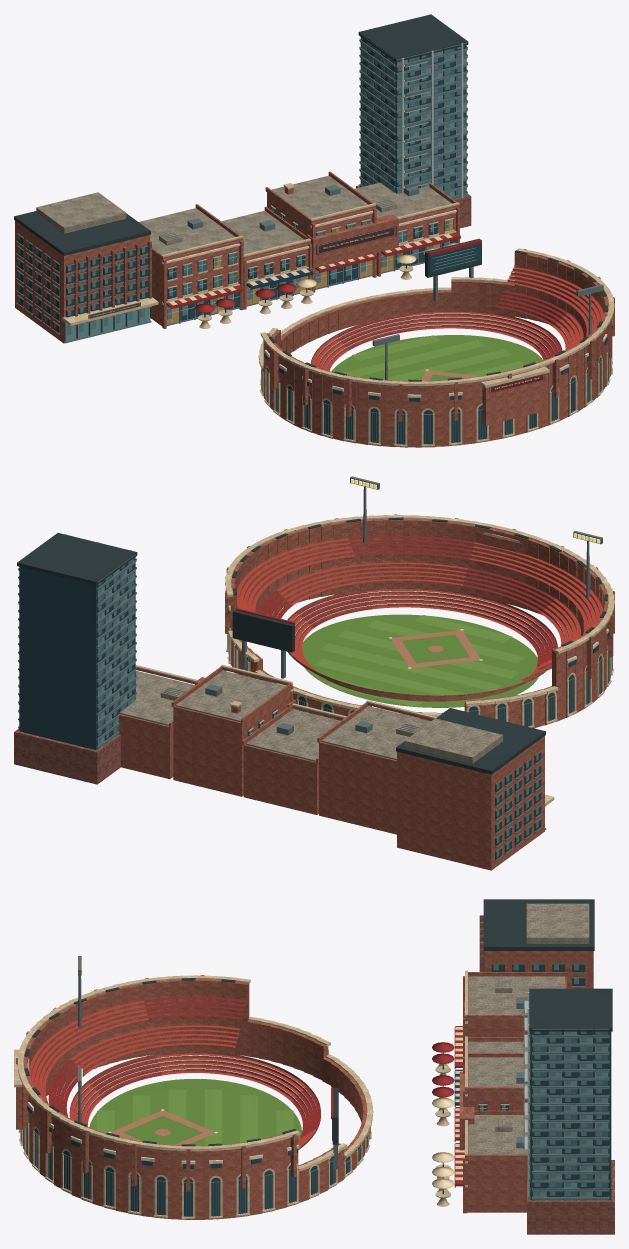
File: ballpark.glb
3 renders of one model, top to bottom at view 1: azimuth 30°, elevation 25°; view 2: azimuth 150°, elevation 25°; view 3: azimuth 270°, elevation 25°, orthographic. The views are drawn at different scales.
Visible parts, largest first — view 1: Busch Stadium, plaza and One Cardinal Way · Arena brick, Busch Stadium, plaza and One Cardinal Way · Glass dark, Busch Stadium, plaza and One Cardinal Way · Steel, Busch Stadium, plaza and One Cardinal Way · Limestone, Busch Stadium, plaza and One Cardinal Way · Roof, Busch Stadium, plaza and One Cardinal Way · Glass light, Busch Stadium, plaza and One Cardinal Way · Coal, Busch Stadium, plaza and One Cardinal Way · Red, Busch Stadium, plaza and One Cardinal Way · Bright red, Busch Stadium, plaza and One Cardinal Way · Turf, Busch Stadium, plaza and One Cardinal Way · Mown turf, Busch Stadium, plaza and One Cardinal Way · Glass (+8 smaller); view 2: Busch Stadium, plaza and One Cardinal Way · Arena brick, Busch Stadium, plaza and One Cardinal Way · Glass dark, Busch Stadium, plaza and One Cardinal Way · Roof, Busch Stadium, plaza and One Cardinal Way · Turf, Busch Stadium, plaza and One Cardinal Way · Bright red, Busch Stadium, plaza and One Cardinal Way · Coal, Busch Stadium, plaza and One Cardinal Way · Limestone, Busch Stadium, plaza and One Cardinal Way · Mown turf, Busch Stadium, plaza and One Cardinal Way · Steel, Busch Stadium, plaza and One Cardinal Way · Red, Busch Stadium, plaza and One Cardinal Way · Dark brick, Busch Stadium, plaza and One Cardinal Way · Glass light (+3 smaller); view 3: Busch Stadium, plaza and One Cardinal Way · Arena brick, Busch Stadium, plaza and One Cardinal Way · Roof, Busch Stadium, plaza and One Cardinal Way · Steel, Busch Stadium, plaza and One Cardinal Way · Glass dark, Busch Stadium, plaza and One Cardinal Way · Limestone, Busch Stadium, plaza and One Cardinal Way · Coal, Busch Stadium, plaza and One Cardinal Way · Bright red, Busch Stadium, plaza and One Cardinal Way · Turf, Busch Stadium, plaza and One Cardinal Way · Red, Busch Stadium, plaza and One Cardinal Way · Glass light, Busch Stadium, plaza and One Cardinal Way · Dark brick, Busch Stadium, plaza and One Cardinal Way · Mown turf (+5 smaller).
Boxes of the visible parts, left/top/right/bottom form: Busch Stadium, plaza and One Cardinal Way · Arena brick: left=15, top=171, right=614, bottom=447; Busch Stadium, plaza and One Cardinal Way · Glass dark: left=17, top=37, right=613, bottom=444; Busch Stadium, plaza and One Cardinal Way · Steel: left=64, top=34, right=608, bottom=444; Busch Stadium, plaza and One Cardinal Way · Limestone: left=62, top=183, right=614, bottom=446; Busch Stadium, plaza and One Cardinal Way · Roof: left=36, top=175, right=451, bottom=254; Busch Stadium, plaza and One Cardinal Way · Glass light: left=18, top=37, right=466, bottom=341; Busch Stadium, plaza and One Cardinal Way · Coal: left=14, top=14, right=607, bottom=381; Busch Stadium, plaza and One Cardinal Way · Red: left=166, top=232, right=567, bottom=360; Busch Stadium, plaza and One Cardinal Way · Bright red: left=311, top=267, right=603, bottom=370; Busch Stadium, plaza and One Cardinal Way · Turf: left=331, top=335, right=542, bottom=381; Busch Stadium, plaza and One Cardinal Way · Mown turf: left=343, top=335, right=524, bottom=381; Busch Stadium, plaza and One Cardinal Way · Glass: left=183, top=42, right=466, bottom=295; Busch Stadium, plaza and One Cardinal Way · Arena brick: left=118, top=514, right=614, bottom=870; Busch Stadium, plaza and One Cardinal Way · Glass dark: left=19, top=557, right=613, bottom=859; Busch Stadium, plaza and One Cardinal Way · Roof: left=119, top=670, right=503, bottom=763; Busch Stadium, plaza and One Cardinal Way · Turf: left=302, top=614, right=538, bottom=707; Busch Stadium, plaza and One Cardinal Way · Bright red: left=236, top=538, right=603, bottom=682; Busch Stadium, plaza and One Cardinal Way · Coal: left=17, top=517, right=607, bottom=774; Busch Stadium, plaza and One Cardinal Way · Limestone: left=135, top=515, right=614, bottom=806; Busch Stadium, plaza and One Cardinal Way · Mown turf: left=314, top=615, right=525, bottom=707; Busch Stadium, plaza and One Cardinal Way · Steel: left=18, top=476, right=612, bottom=829; Busch Stadium, plaza and One Cardinal Way · Red: left=236, top=535, right=557, bottom=669; Busch Stadium, plaza and One Cardinal Way · Dark brick: left=14, top=728, right=120, bottom=784; Busch Stadium, plaza and One Cardinal Way · Glass light: left=97, top=560, right=538, bottom=856; Busch Stadium, plaza and One Cardinal Way · Arena brick: left=16, top=951, right=593, bottom=1219; Busch Stadium, plaza and One Cardinal Way · Roof: left=468, top=903, right=589, bottom=1154; Busch Stadium, plaza and One Cardinal Way · Steel: left=20, top=956, right=609, bottom=1216; Busch Stadium, plaza and One Cardinal Way · Glass dark: left=27, top=951, right=611, bottom=1216; Busch Stadium, plaza and One Cardinal Way · Limestone: left=14, top=970, right=509, bottom=1218; Busch Stadium, plaza and One Cardinal Way · Coal: left=24, top=899, right=612, bottom=1194; Busch Stadium, plaza and One Cardinal Way · Bright red: left=29, top=1000, right=315, bottom=1146; Busch Stadium, plaza and One Cardinal Way · Turf: left=89, top=1079, right=301, bottom=1145; Busch Stadium, plaza and One Cardinal Way · Red: left=46, top=996, right=464, bottom=1187; Busch Stadium, plaza and One Cardinal Way · Glass light: left=480, top=964, right=608, bottom=1200; Busch Stadium, plaza and One Cardinal Way · Dark brick: left=479, top=915, right=614, bottom=1234; Busch Stadium, plaza and One Cardinal Way · Mown turf: left=97, top=1089, right=293, bottom=1145.
Bounding box in the file's own units: 38.26 × 15.75 × 41.6.
27 materials, 9 textured.
